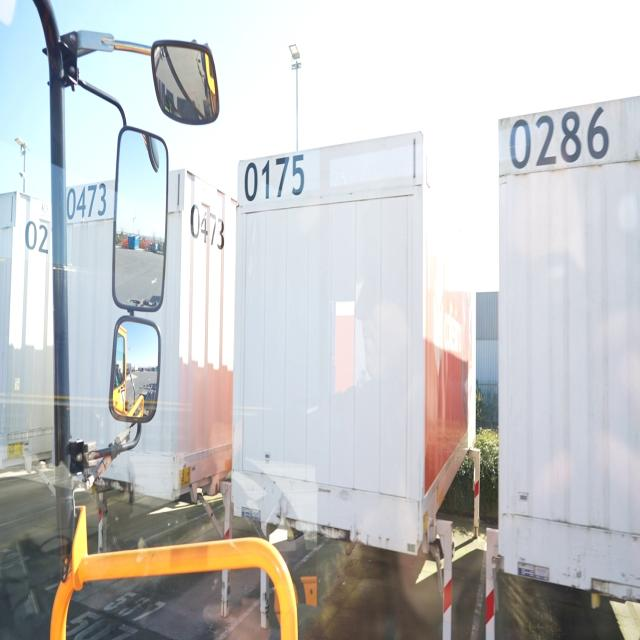Code: (506, 100, 610, 173), (241, 149, 307, 206), (186, 193, 225, 255)
